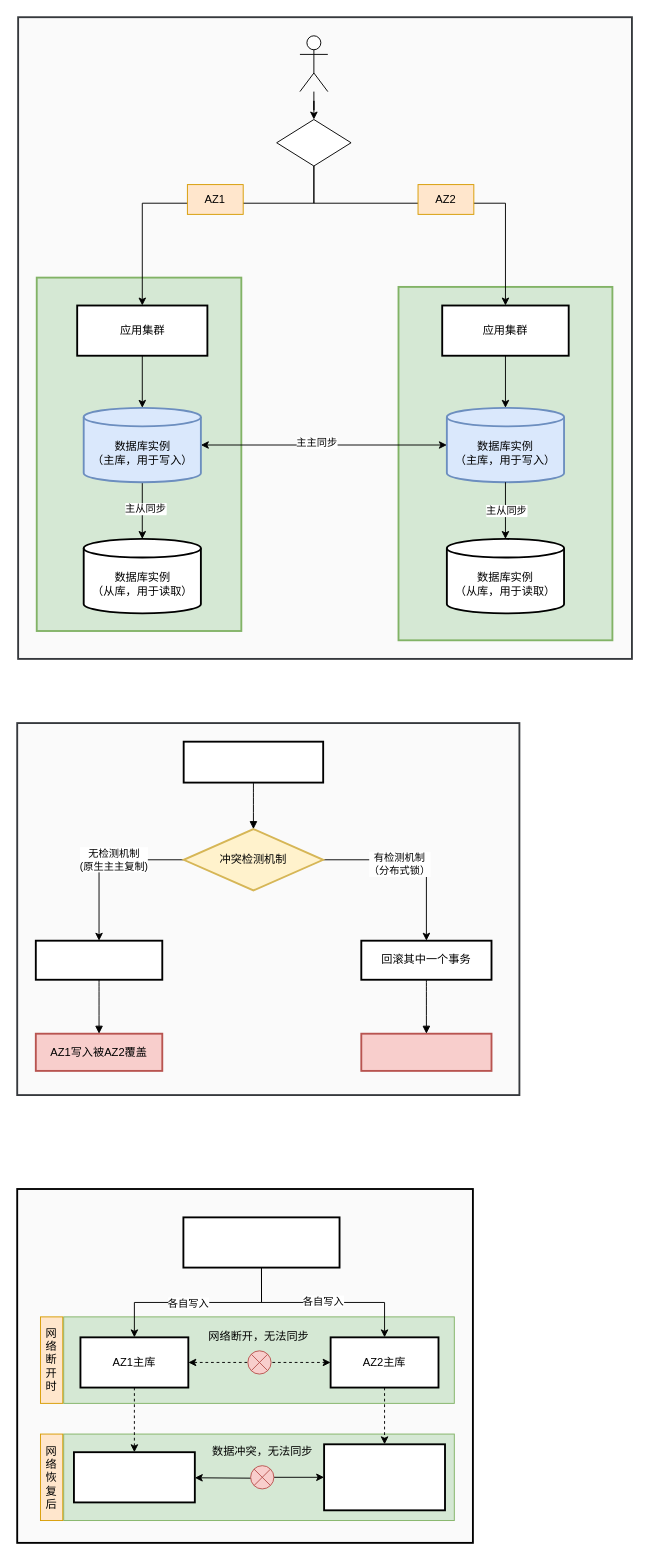
This 648x1560 diagram has some shape labels left out. Each missing label, with the centre of its shape:
"AZ1主库: id=1, name='张三' id=2, name='王五'" goes at point 134,1477.
"AZ2主库: id=1, name='李四' id=2, name='赵六' id=3, name='钱七'" goes at point 384,1477.
"ELB" goes at point 313,142.
"双AZ同时写入" goes at point 98,959.
"双AZ同时写入同一记录" goes at point 253,761.
"应用报错，需重试逻辑" goes at point 426,1051.
"数据请求" goes at point 261,1242.
